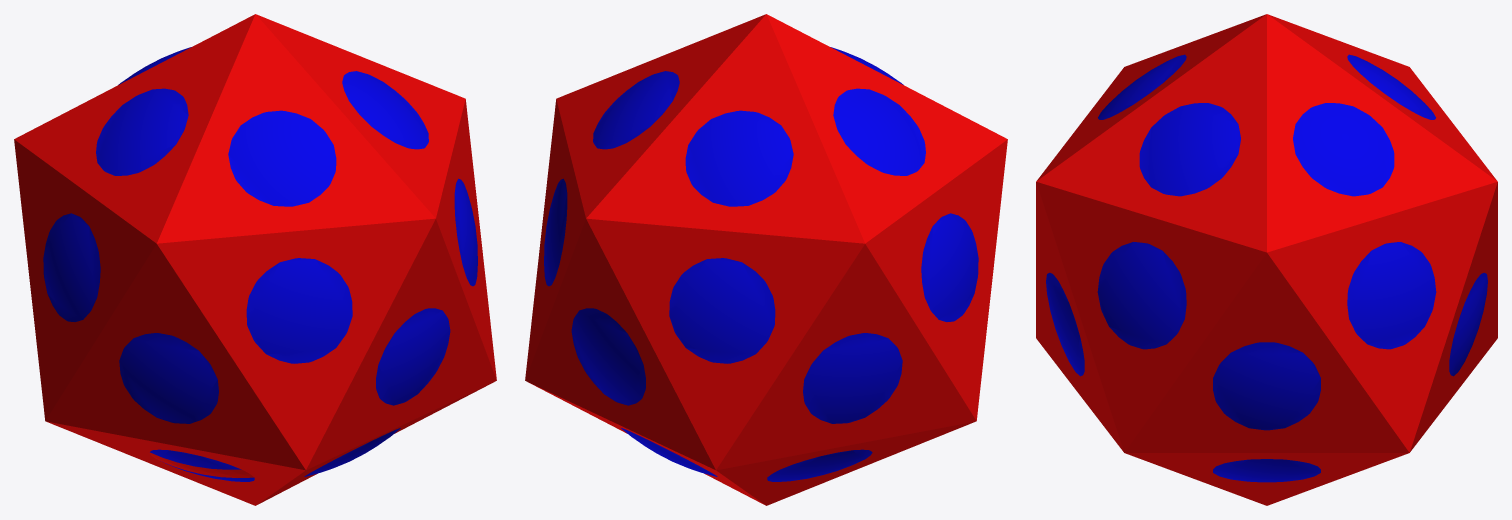
The model's file is IcoSphere2SubMeshes.fbx.
3 views of the same model, side by side, from view 1: azimuth 30°, elevation 25°; view 2: azimuth 150°, elevation 25°; view 3: azimuth 270°, elevation 25° (orthographic).
Parts seen in each view (by area): view 1: Icosphere.002; view 2: Icosphere.002; view 3: Icosphere.002.
Boxes of the visible parts, <box> form: Icosphere.002: <box>14,14,496,505</box>; Icosphere.002: <box>525,14,1007,505</box>; Icosphere.002: <box>1036,14,1497,505</box>.
Size of the model in its own units: 0.8944 by 1 by 0.8506.
